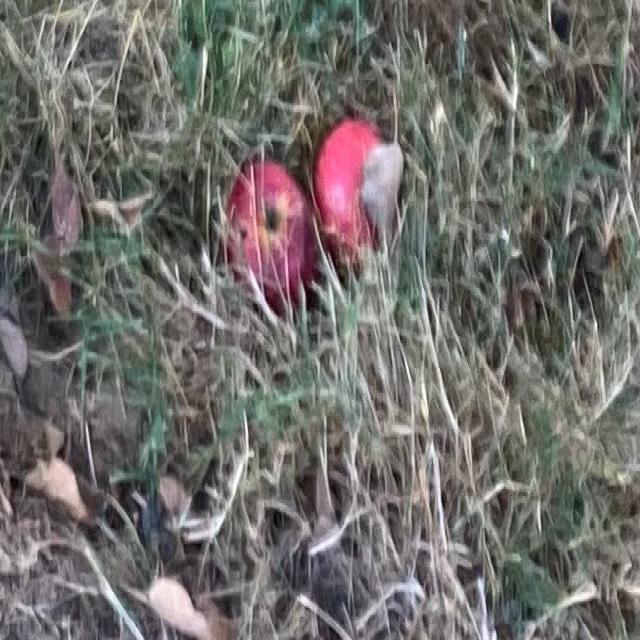Apples: (226, 164, 316, 306), (312, 117, 393, 263)
